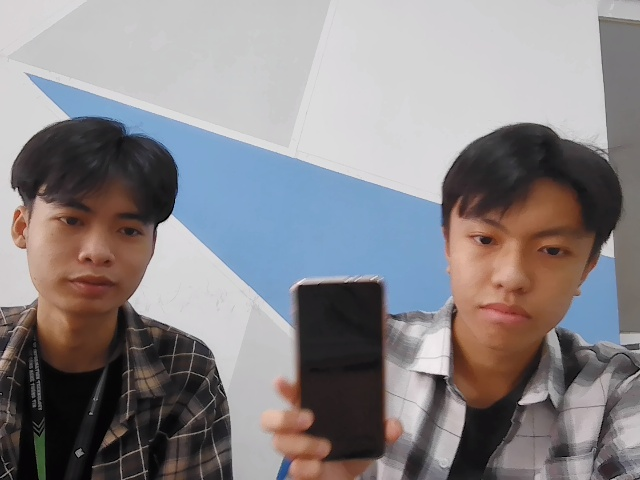human: (439, 124, 623, 347), (11, 117, 180, 315)
phone: (292, 272, 391, 465)
